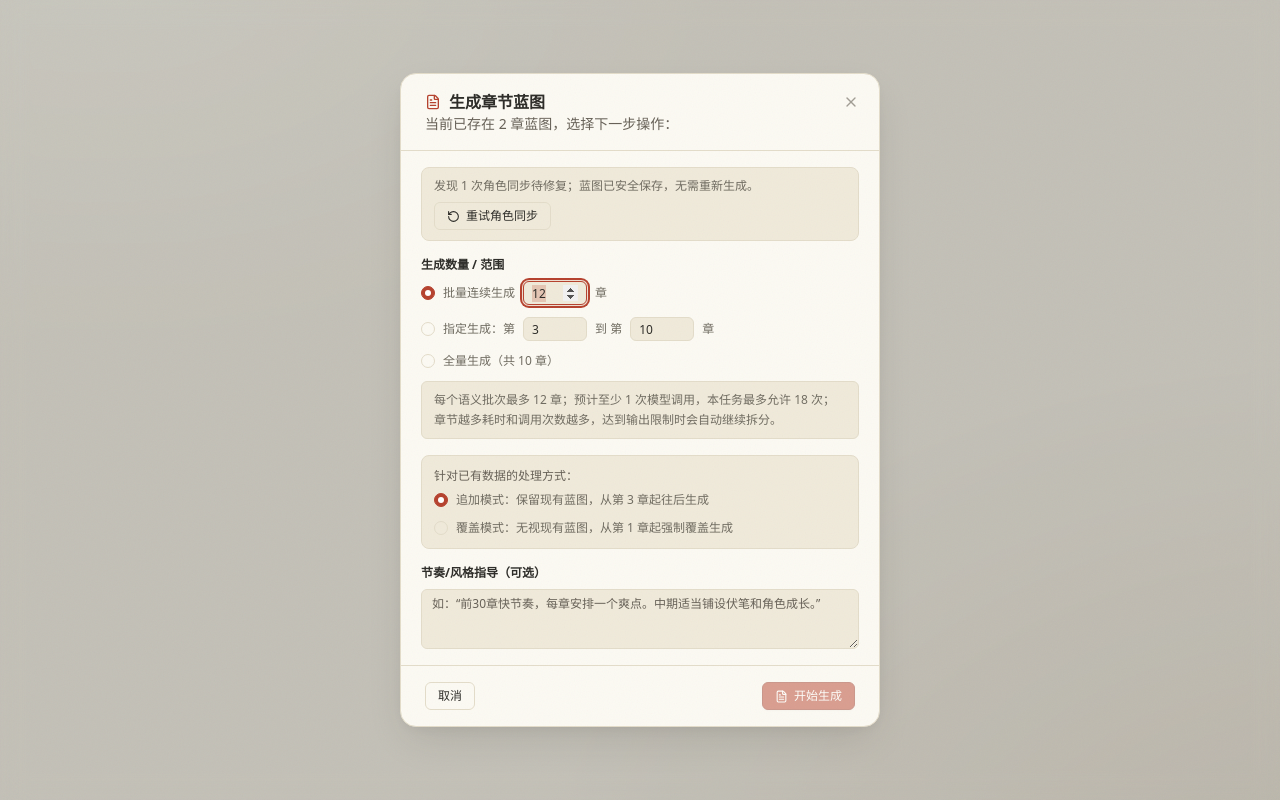
workflow launch dialogs › shows and completes a durable character-sync repair without launching generation
Check: the text "发现 1 次角色同步待修复；蓝图已安全保存，无需重新生成。" is shown, box [434,177,759,194]
Click the button "重试角色同步" at [492, 216], box [434,202,551,230]
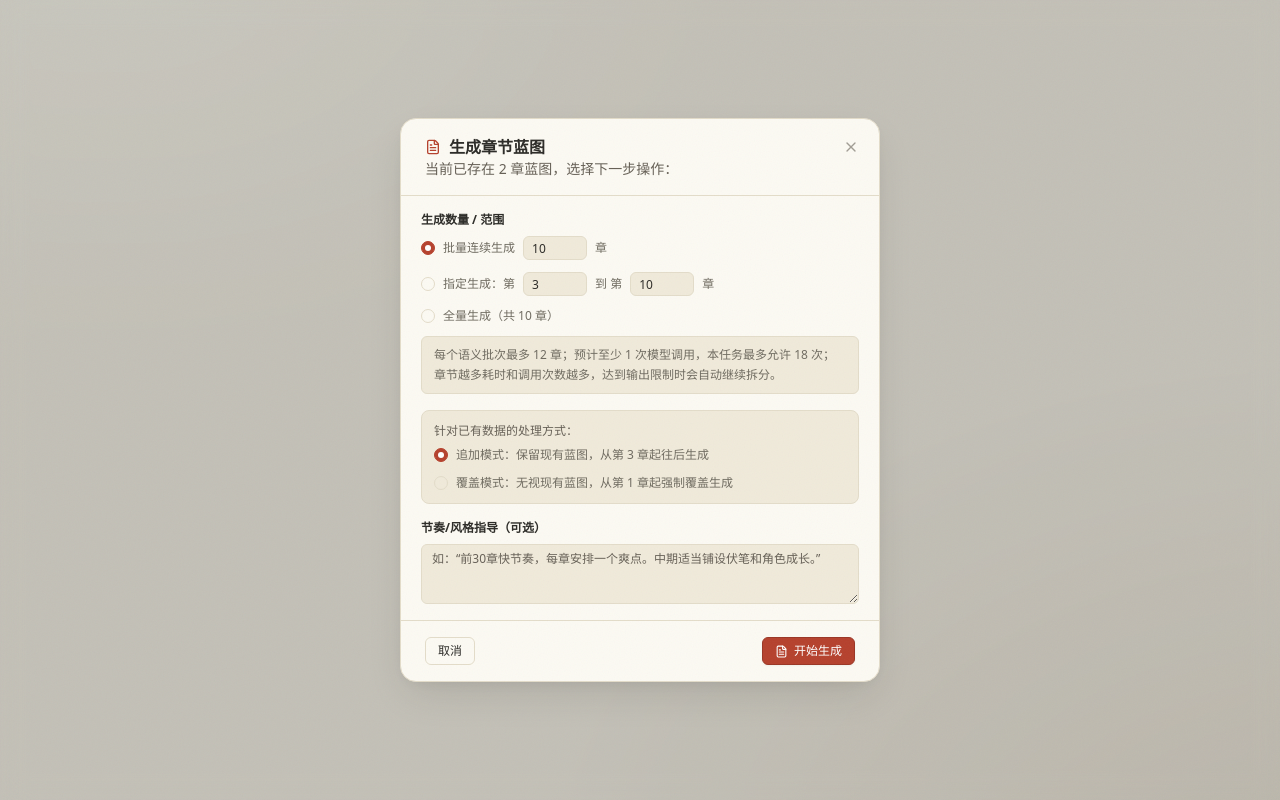
Check: the button "开始生成" is enabled, box [762,637,855,665]
